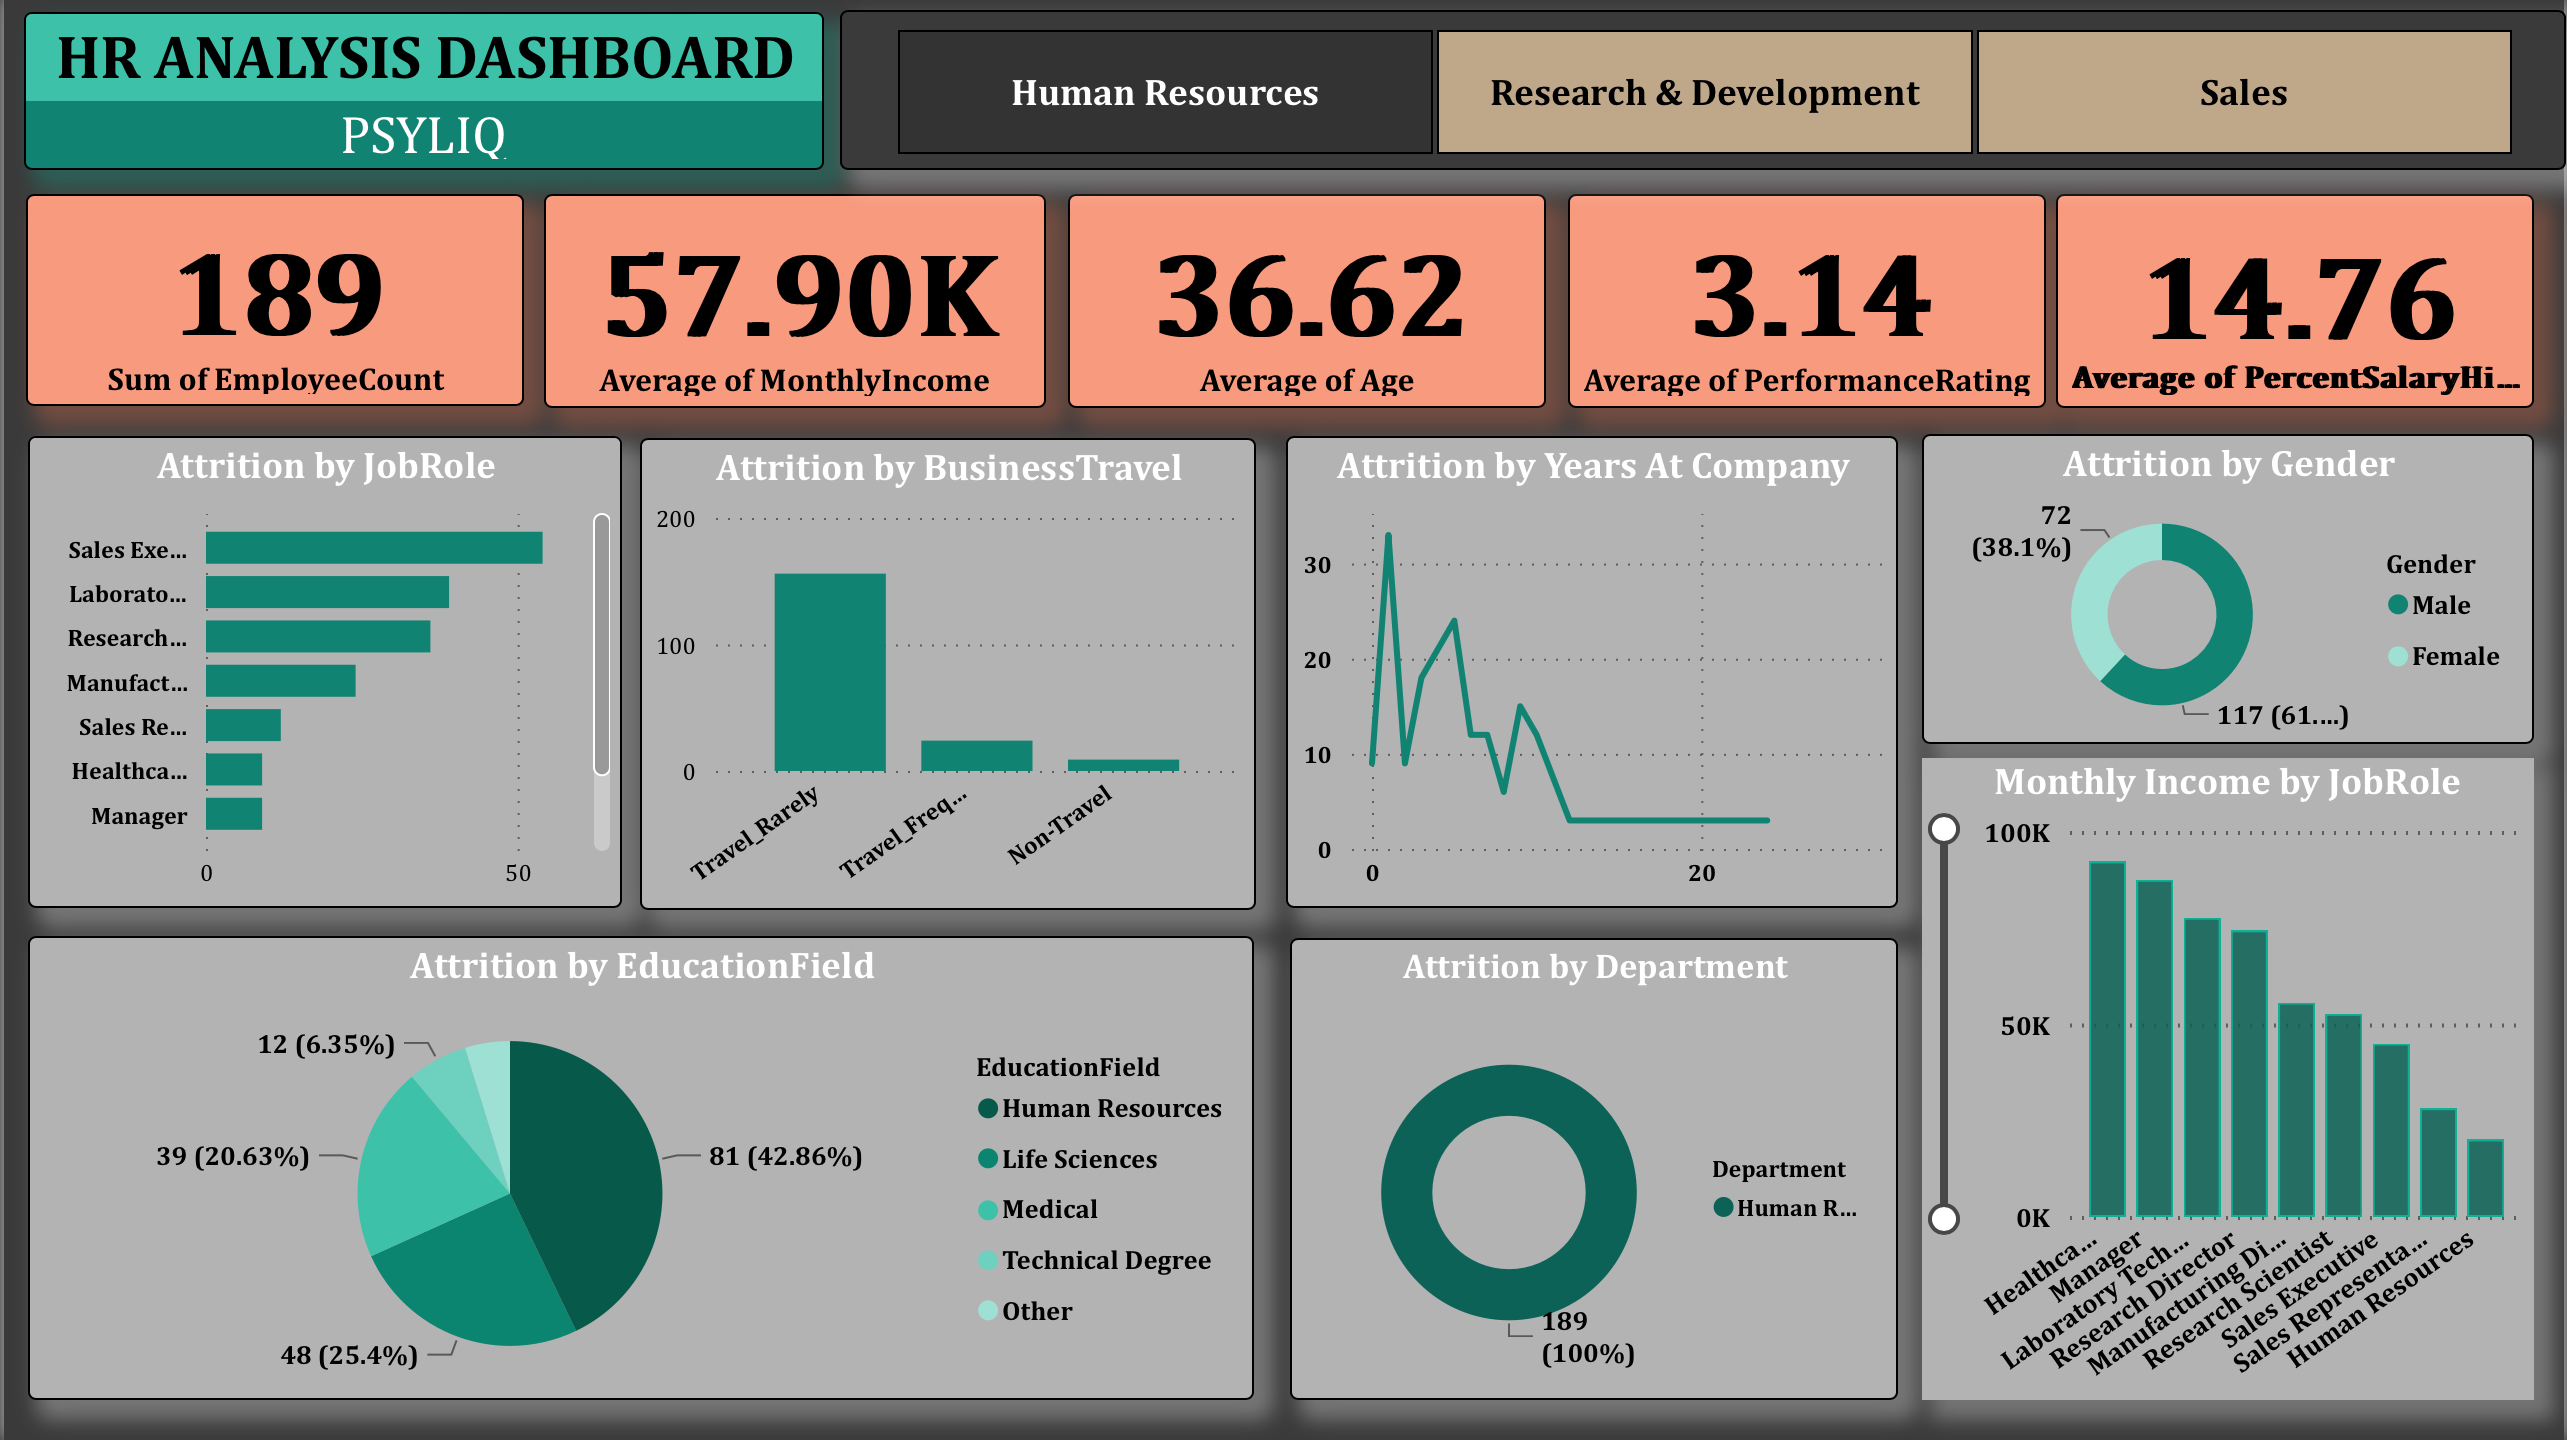

This screenshot's page, from the dashboard's own definition file:
{"tool":"powerbi","page":{"name":"HR ANALYSIS DASHDOARD","canvas":[1280,720],"ordinal":0},"visuals":[{"type":"textbox","title":"HR ANALYSIS DASHBOARD","box":[10.3,7.7,399.3,79.6],"z":0},{"type":"card","fields":{"Values":["Sum(general_data.EmployeeCount)"]},"box":[11,98.8,249.4,106.6],"z":1000},{"type":"card","fields":{"Values":["Avg(general_data.MonthlyIncome)"]},"box":[270.1,98.8,251.1,107.1],"z":2000},{"type":"card","fields":{"Values":["Avg(general_data.Age)"]},"box":[532,98.8,239.2,107.1],"z":3000},{"type":"card","fields":{"Values":["Avg(manager_survey_data.PerformanceRating)"]},"box":[781.9,98.8,239.2,107.1],"z":4000},{"type":"card","fields":{"Values":["Avg(general_data.PercentSalaryHike)"]},"box":[1025.9,98.8,239.2,107.1],"z":5000},{"type":"clusteredBarChart","title":"Attrition by JobRole","fields":{"Category":["general_data.JobRole"],"Y":["CountNonNull(general_data.Attrition)"]},"box":[11.6,219.5,297.9,236.2],"z":6000},{"type":"clusteredColumnChart","title":"Attrition by BusinessTravel","fields":{"Y":["CountNonNull(general_data.Attrition)"],"Category":["general_data.BusinessTravel"]},"box":[318.4,219.6,307.4,236.8],"z":7000},{"type":"lineChart","title":"Attrition by Years At Company","fields":{"Category":["general_data.YearsAtCompany"],"Y":["CountNonNull(general_data.Attrition)"]},"box":[641.4,219.6,305.8,236.8],"z":8000},{"type":"donutChart","title":"Attrition by Gender","fields":{"Y":["CountNonNull(general_data.Attrition)"],"Category":["general_data.Gender"]},"box":[959.2,219,305.9,154.7],"z":9000},{"type":"slicer","fields":{"Values":["general_data.Department"]},"box":[417.7,7.1,862.8,79.7],"z":10000},{"type":"pieChart","title":"Attrition by EducationField","fields":{"Y":["CountNonNull(general_data.Attrition)"],"Category":["general_data.EducationField"]},"box":[11.6,469.9,613.7,232.4],"z":11000},{"type":"donutChart","title":"Attrition by Department","fields":{"Y":["CountNonNull(general_data.Attrition)"],"Category":["general_data.Department"]},"box":[643.2,471.2,304.3,231.1],"z":12000},{"type":"clusteredColumnChart","title":"Monthly Income by JobRole","fields":{"Category":["general_data.JobRole"],"Y":["Avg(general_data.MonthlyIncome)"]},"box":[959.2,380.8,305.9,321.3],"z":13000}]}

Visuals, with their boxes in screenshot pixels (x1, y1, x2, y2), scaled from the page's 1280x720 canvas onto the 2567x1440 screenshot:
"HR ANALYSIS DASHBOARD" textbox: Rect(21, 15, 821, 175)
card - Sum(general_data.EmployeeCount): Rect(22, 198, 522, 411)
card - Avg(general_data.MonthlyIncome): Rect(542, 198, 1045, 412)
card - Avg(general_data.Age): Rect(1067, 198, 1547, 412)
card - Avg(manager_survey_data.PerformanceRating): Rect(1568, 198, 2048, 412)
card - Avg(general_data.PercentSalaryHike): Rect(2057, 198, 2537, 412)
"Attrition by JobRole" clusteredBarChart: Rect(23, 439, 621, 911)
"Attrition by BusinessTravel" clusteredColumnChart: Rect(639, 439, 1255, 913)
"Attrition by Years At Company" lineChart: Rect(1286, 439, 1900, 913)
"Attrition by Gender" donutChart: Rect(1924, 438, 2537, 747)
slicer - general_data.Department: Rect(838, 14, 2566, 174)
"Attrition by EducationField" pieChart: Rect(23, 940, 1254, 1405)
"Attrition by Department" donutChart: Rect(1290, 942, 1900, 1405)
"Monthly Income by JobRole" clusteredColumnChart: Rect(1924, 762, 2537, 1404)
